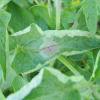Tomato leaf late blight: (12, 28, 99, 72)
